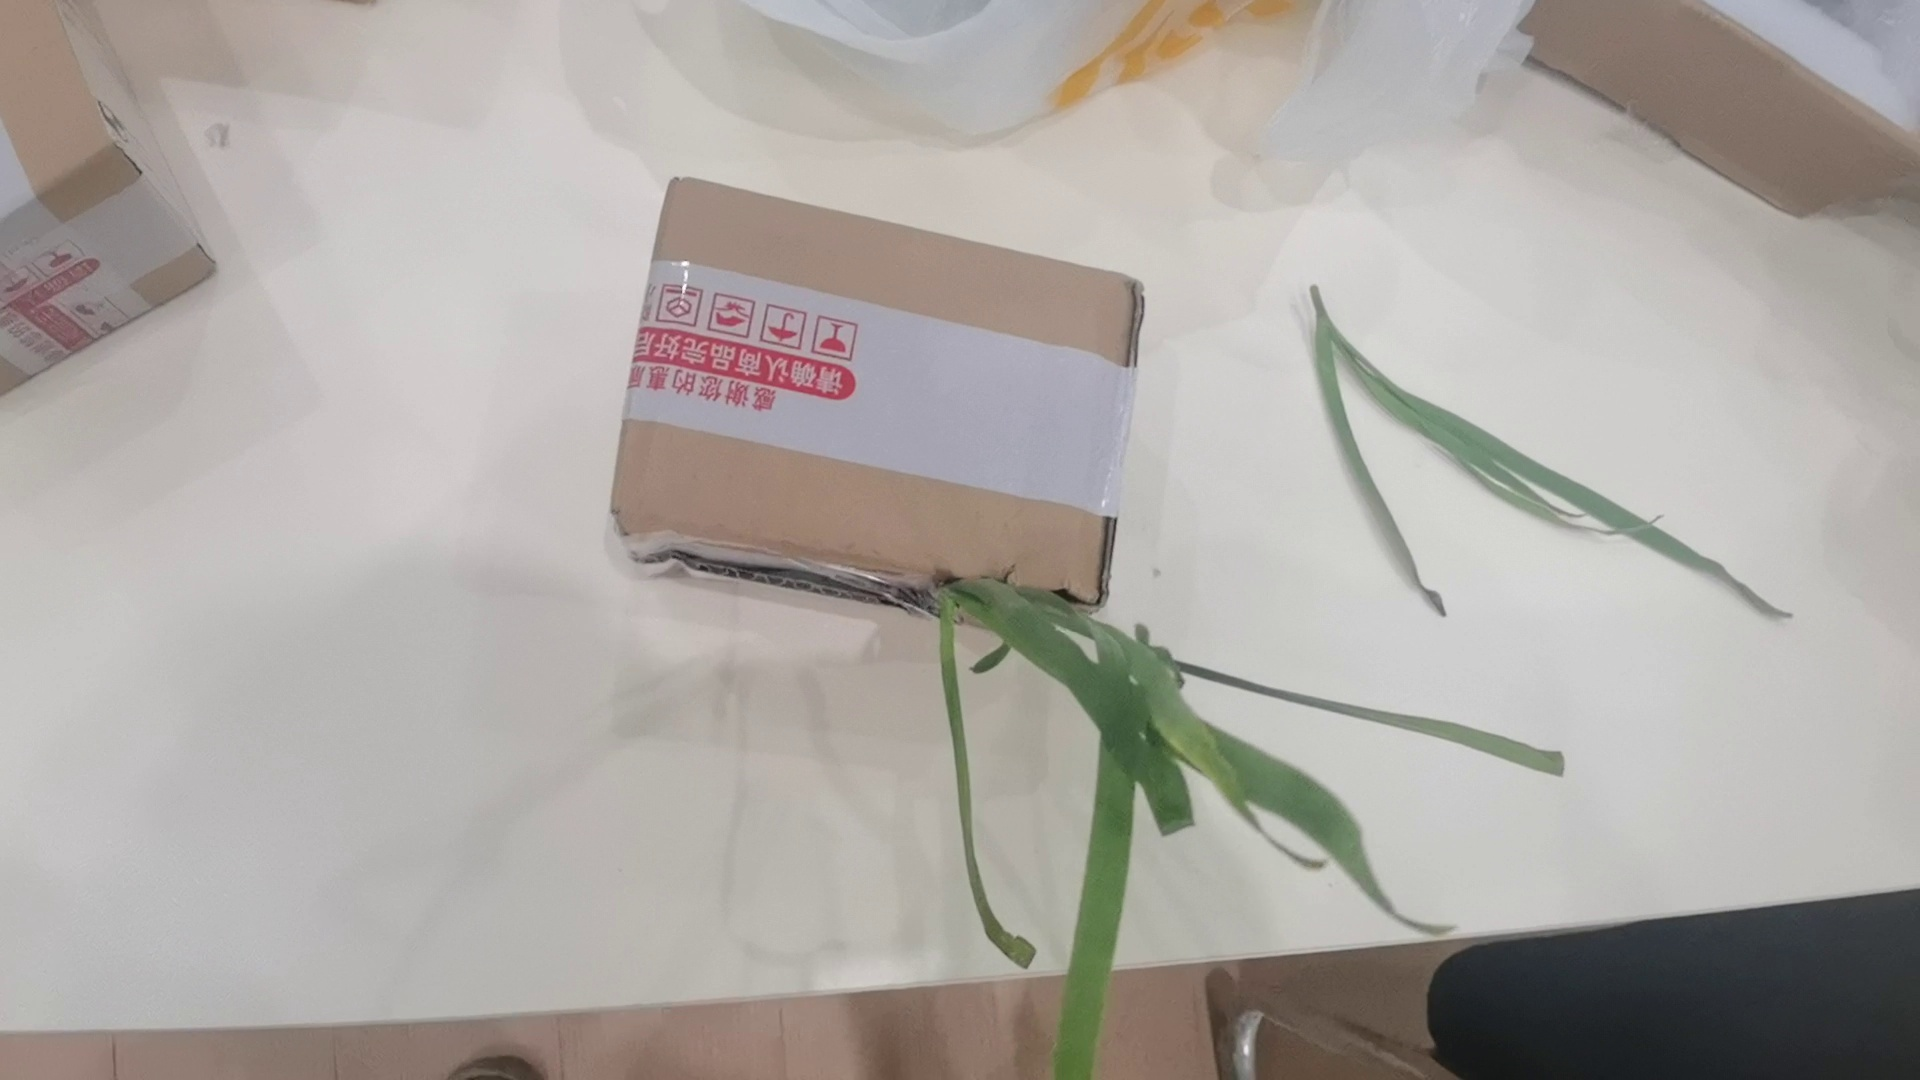chives: (880, 549, 1569, 1080), (1287, 273, 1812, 626)
